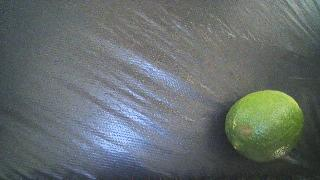DESECHO: (225, 90, 304, 162)
